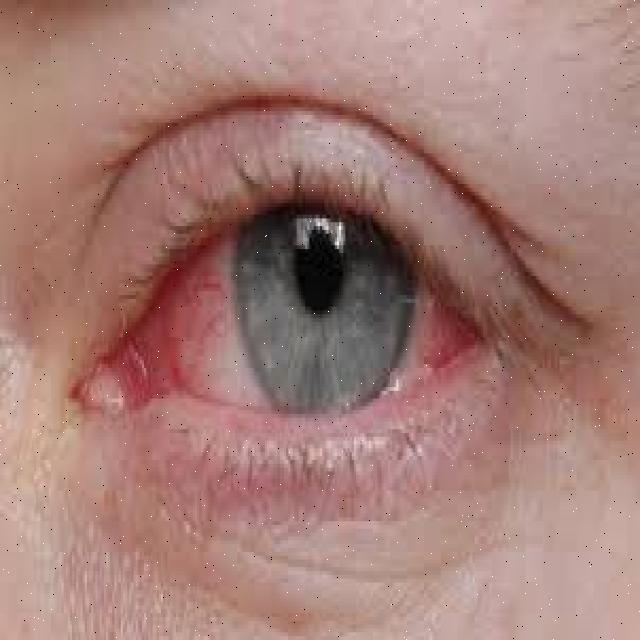Conjunctivitis: (69, 212, 514, 416)
